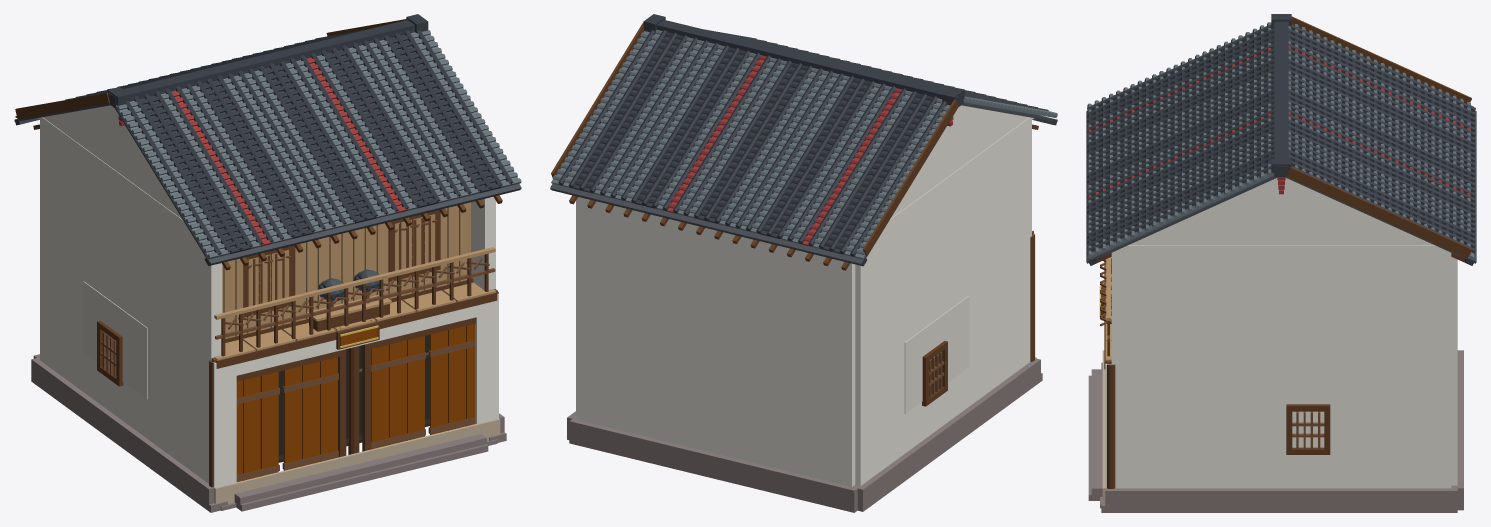
The model's file is lib_lib_house_b2.glb.
The picture shows the model from 3 angles, left to right: view 1: azimuth 30°, elevation 25°; view 2: azimuth 150°, elevation 25°; view 3: azimuth 270°, elevation 25°; orthographic projection.
Parts seen in each view (by area): view 1: lhb2_body; view 2: lhb2_body; view 3: lhb2_body.
Boxes of the visible parts, left/top/right/bottom form: lhb2_body: left=14, top=14, right=521, bottom=512; lhb2_body: left=550, top=14, right=1057, bottom=512; lhb2_body: left=1086, top=14, right=1476, bottom=512.
Size of the model in its own units: 7.38 by 7.98 by 8.02.
Materials: 1 (1 with a texture image).
